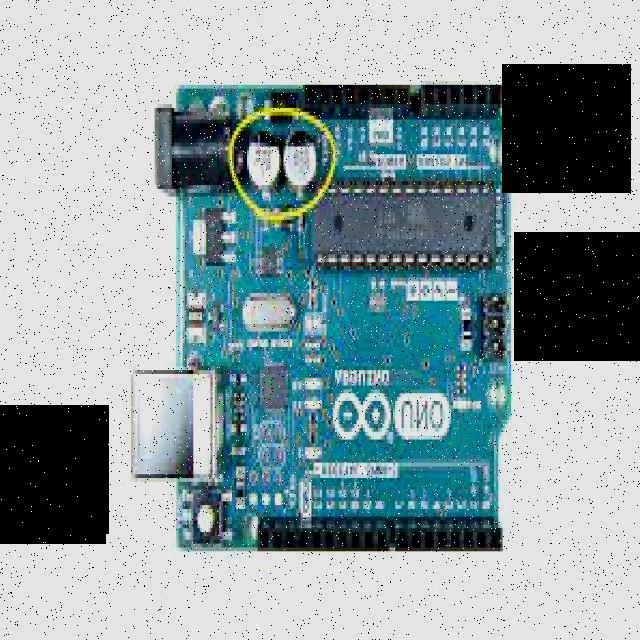arduino: (172, 93, 513, 552)
